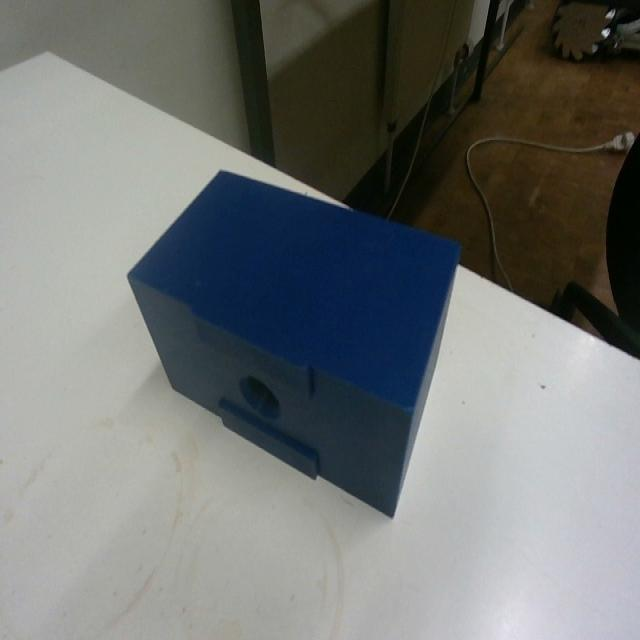Blue Cuboid: (125, 165, 463, 519)
